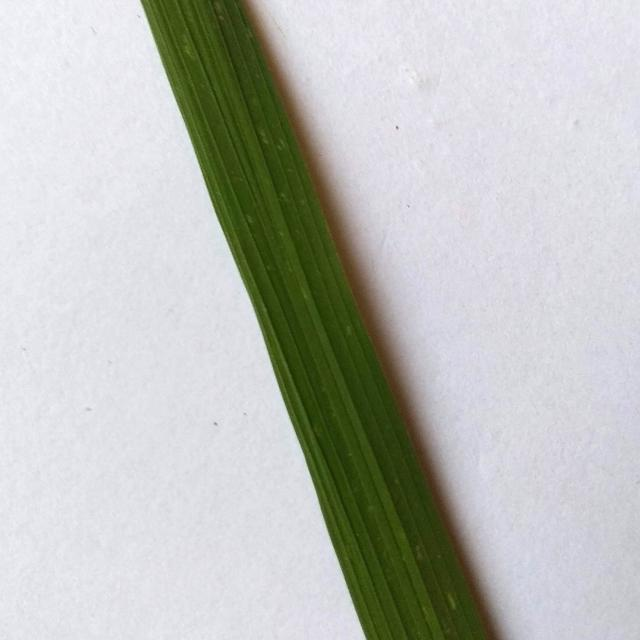Rice_Healthy: (142, 0, 488, 640)
